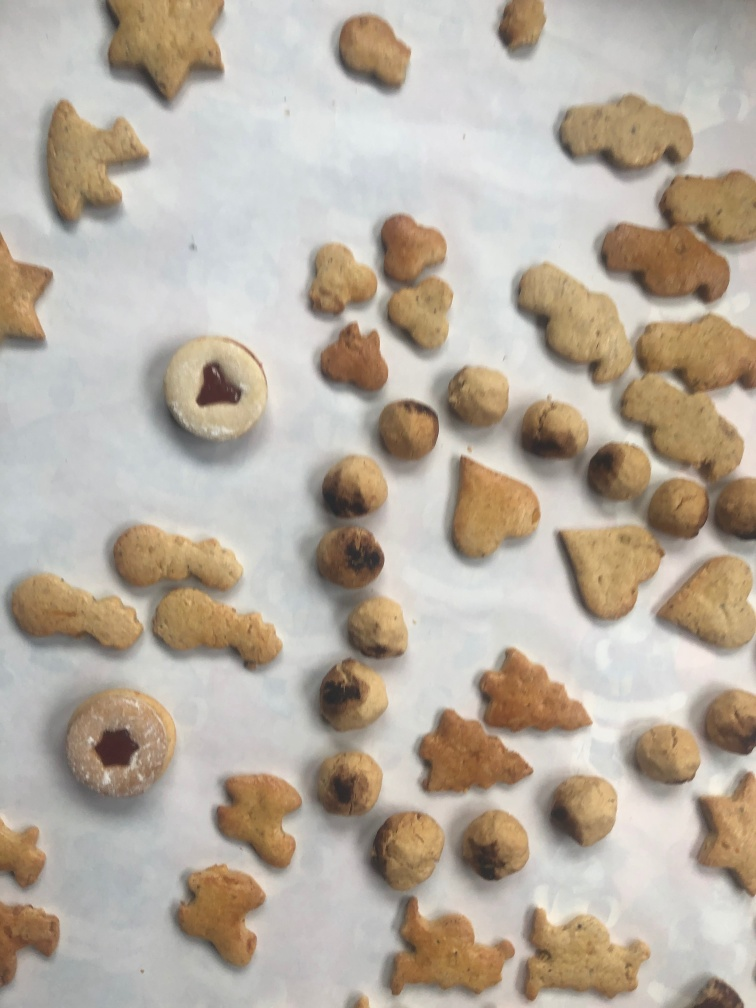christmas shortbread with jam: (62, 684, 179, 807), (160, 332, 270, 446)
christmas tree: (467, 645, 597, 740), (416, 708, 533, 801)
flake: (381, 272, 462, 357), (312, 319, 392, 401), (372, 210, 450, 290), (304, 240, 376, 323)
heart: (553, 512, 666, 631), (447, 445, 543, 572), (652, 555, 755, 661)
lamb: (41, 93, 155, 232), (165, 860, 276, 977), (210, 769, 308, 870)
santa claus: (507, 253, 631, 388), (378, 889, 516, 1004), (614, 370, 745, 485), (519, 902, 660, 1008), (595, 218, 743, 307), (551, 90, 699, 179), (636, 313, 756, 401), (654, 165, 756, 241)
snowball: (370, 807, 447, 897), (454, 808, 535, 884), (628, 712, 705, 791), (306, 523, 393, 592), (310, 659, 391, 733), (547, 771, 618, 854), (309, 747, 385, 821), (314, 449, 388, 523), (516, 399, 588, 475), (342, 586, 413, 662), (446, 360, 514, 435), (373, 393, 443, 460), (586, 440, 653, 507), (702, 682, 756, 764), (644, 474, 710, 537), (715, 476, 756, 543)
snowman: (4, 567, 144, 661), (148, 584, 282, 677), (102, 516, 251, 598)
star: (98, 1, 236, 111), (691, 769, 756, 893), (1, 233, 55, 361)
